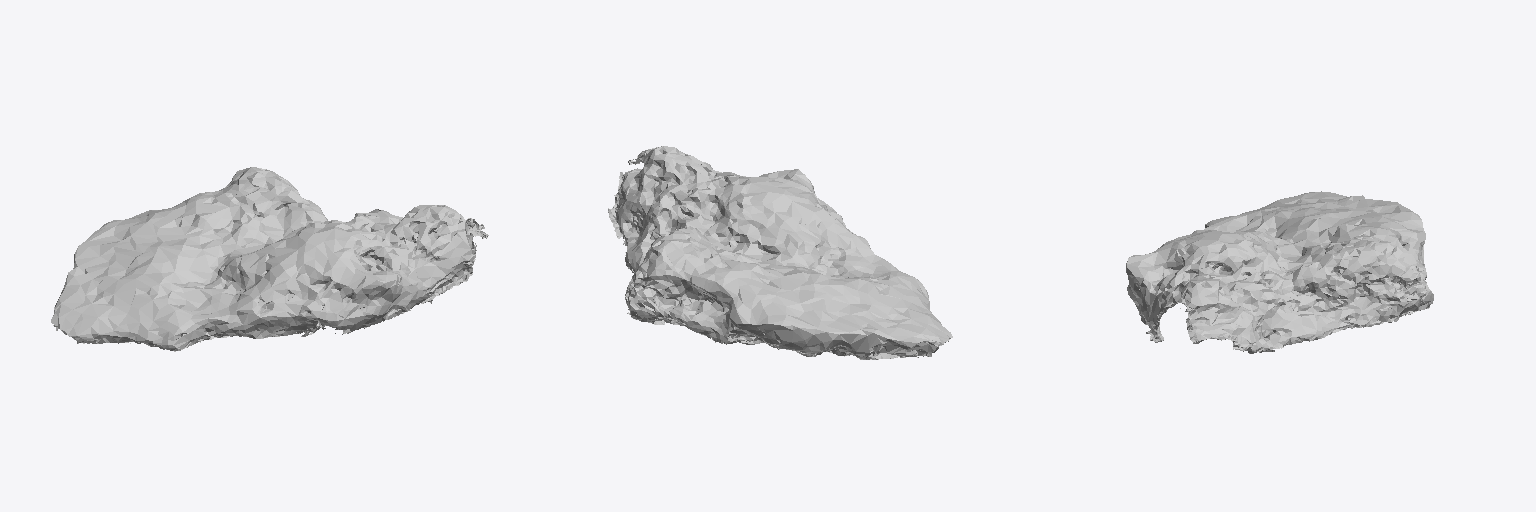
Rendered from fossil.obj.
3 views of the same model, side by side, from view 1: azimuth 30°, elevation 25°; view 2: azimuth 150°, elevation 25°; view 3: azimuth 270°, elevation 25° (orthographic).
Visible parts, largest first — view 1: Fossil_Bones; view 2: Fossil_Bones; view 3: Fossil_Bones.
Boxes of the visible parts, x1,y1,x2,y2 form: Fossil_Bones: [51, 167, 488, 351]; Fossil_Bones: [608, 146, 952, 359]; Fossil_Bones: [1126, 191, 1433, 353].
Size of the model in its own units: 6 by 1.32 by 4.21.